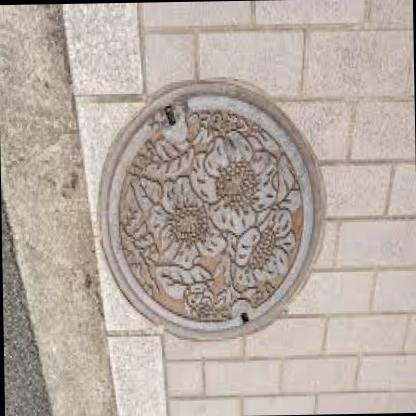manholes: (74, 35, 334, 364)
